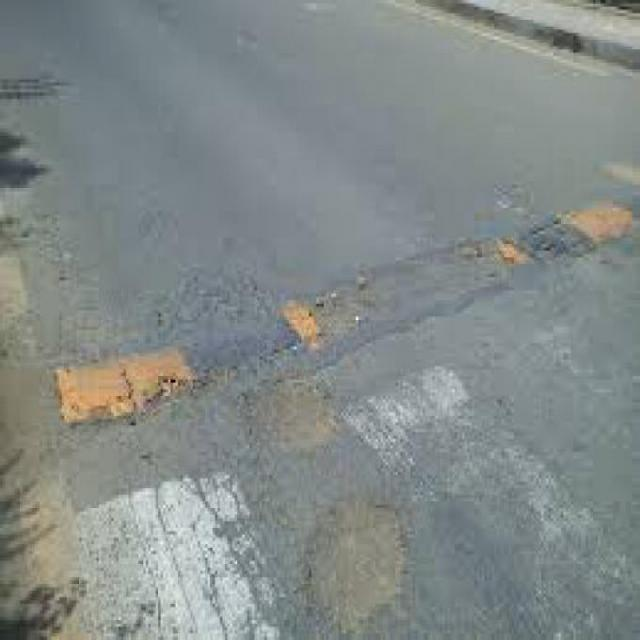speedbreaker: (38, 184, 640, 436)
